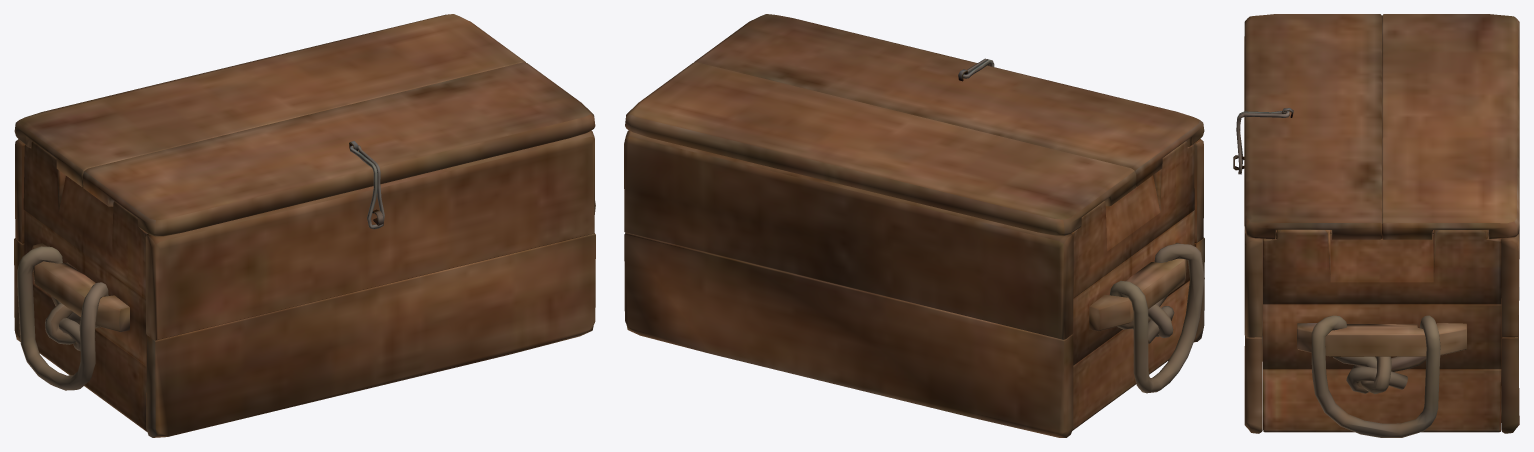
Rendered from wooden_crate_01.glb.
3 views of the same model, side by side, from view 1: azimuth 30°, elevation 25°; view 2: azimuth 150°, elevation 25°; view 3: azimuth 270°, elevation 25° (orthographic). The views are drawn at different scales.
Visible parts, largest first — view 1: wooden_crate_01_lid; view 2: wooden_crate_01_lid; view 3: wooden_crate_01_lid.
Part boxes in pixels (box(x1,y1,x2,y2)): wooden_crate_01_lid: box(14, 14, 595, 437); wooden_crate_01_lid: box(624, 14, 1204, 437); wooden_crate_01_lid: box(1233, 14, 1519, 437).
Bounding box in the file's own units: 0.8253 × 0.3495 × 0.4072.
Materials: 1 (1 with a texture image).
